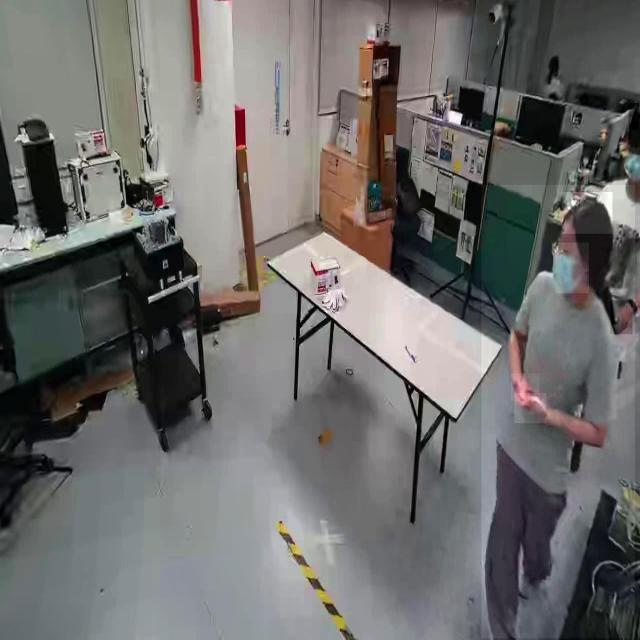face_mask: (555, 243, 589, 293)
hand_noglove: (515, 393, 547, 424), (511, 373, 540, 402), (611, 301, 633, 335)
head_nohelmet: (563, 192, 613, 235), (628, 103, 640, 131)
person: (482, 185, 636, 639)
